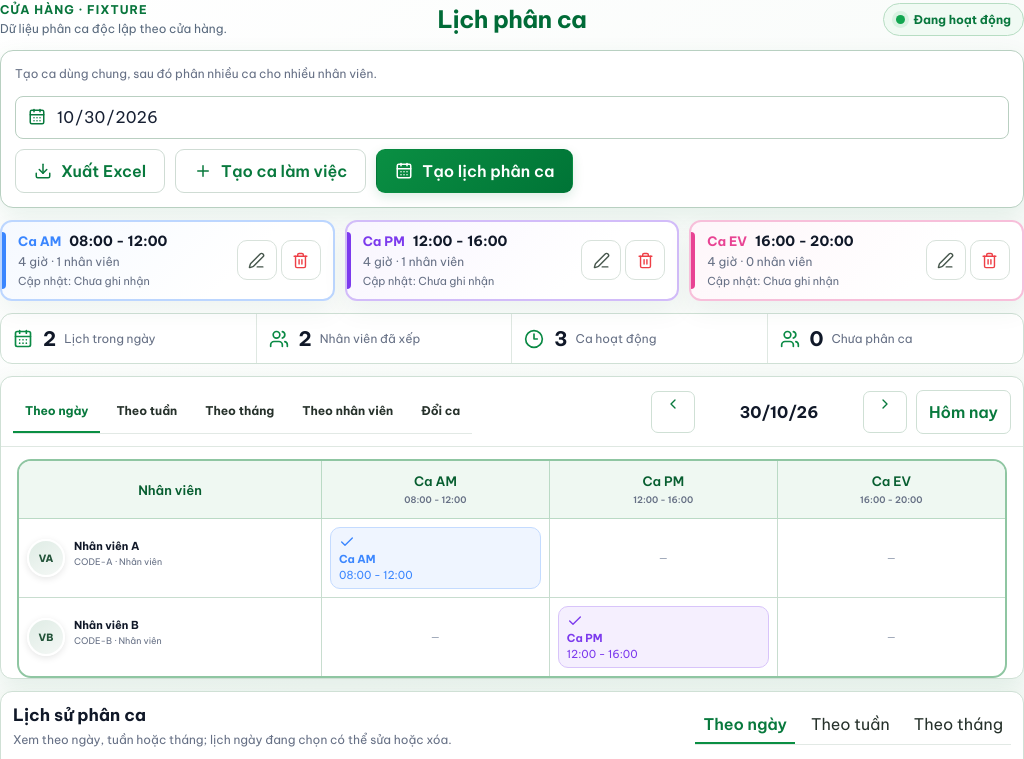
Test case: selects a sole shift visibly, excludes A from B and previews both changes
The width and height of the screenshot is (1024, 759).
Click the tab "Đổi ca" at (441, 411), box [409,389,472,433]
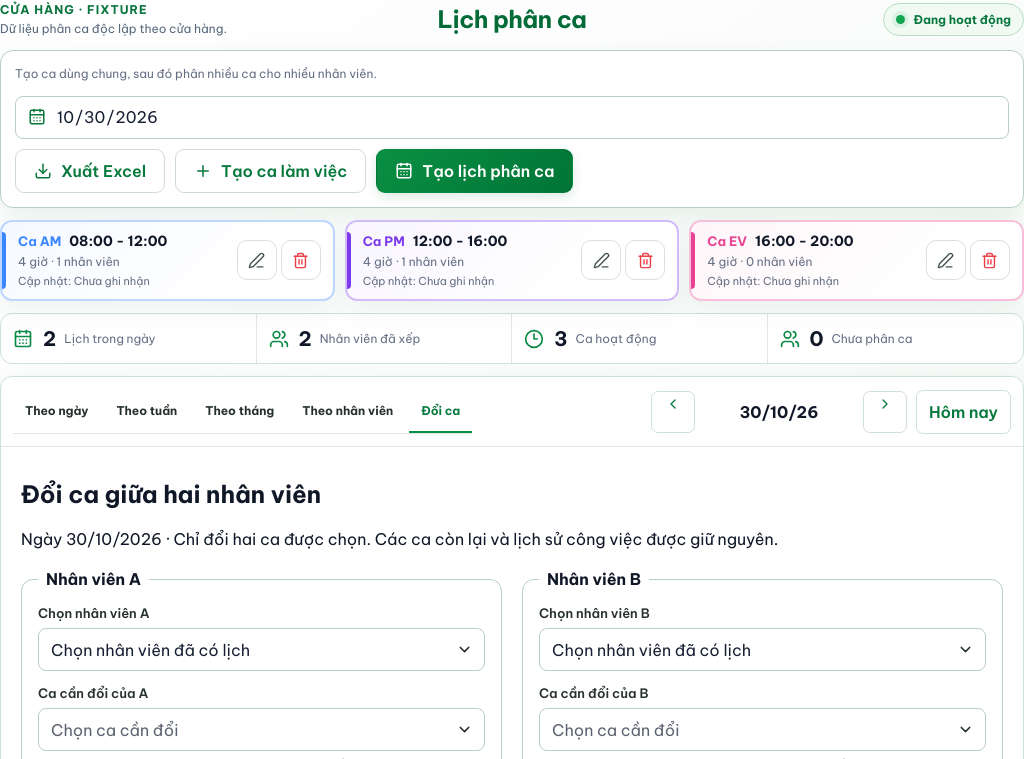
Select "Nhân viên A · CODE-A" in the dropdown labelled "Chọn nhân viên A" at (250, 650), box [51,629,450,670]
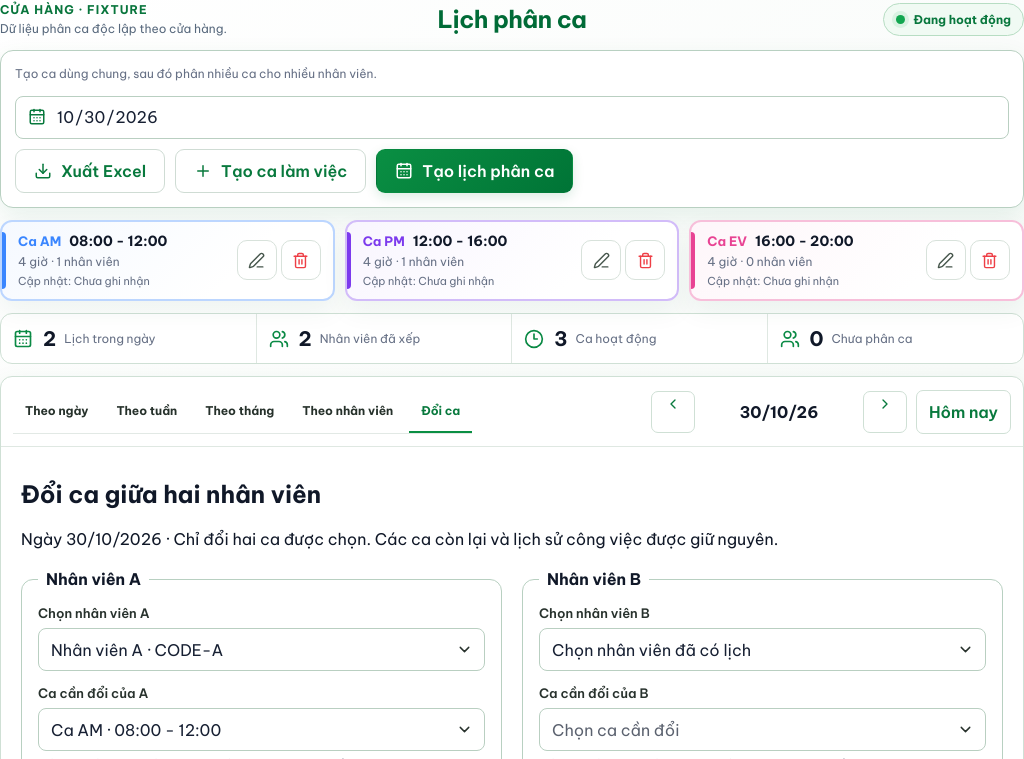
Select "Nhân viên B · CODE-B" in the dropdown labelled "Chọn nhân viên B" at (752, 650), box [552,629,951,670]
(page scrolled)
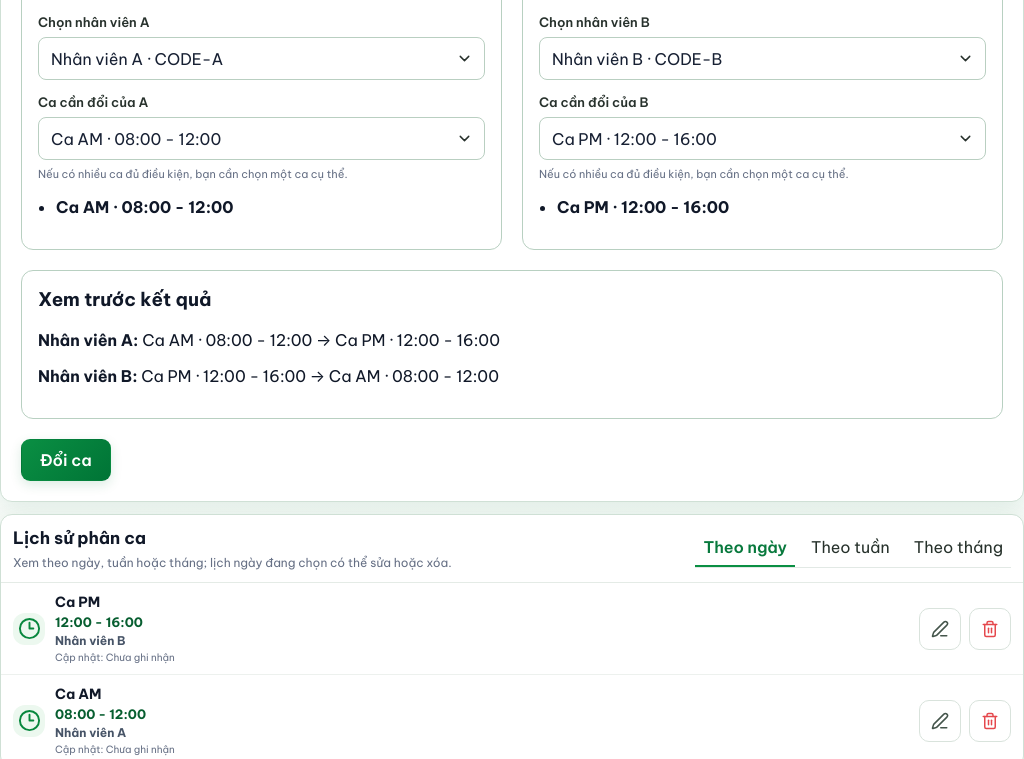
Expected: the dropdown labelled "Ca cần đổi của A" shows "Ca AM · 08:00 - 12:00", [51,118,450,159]
Expected: the element named "Kết quả sau khi đổi" shows "Ca AM · 08:00 - 12:00 → Ca PM · 12:00 - 16:00", [21,270,1003,419]
Expected: the button "Đổi ca" is enabled, [21,439,111,481]
